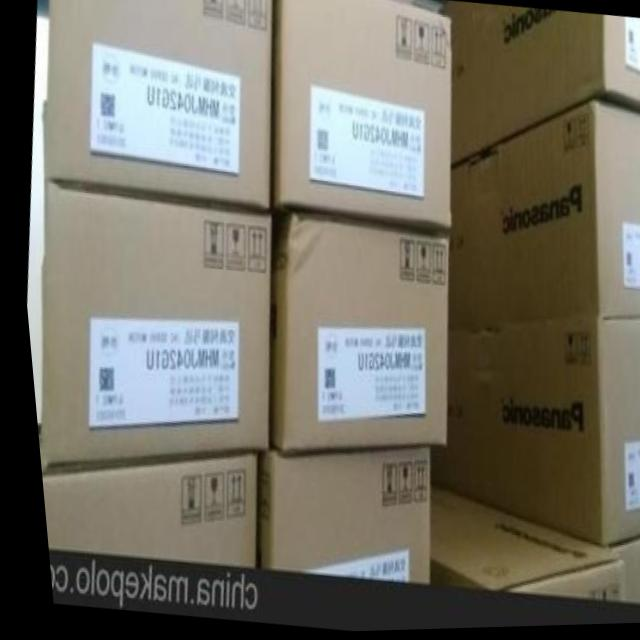box: (32, 185, 267, 470), (421, 322, 640, 550), (43, 0, 272, 213), (442, 103, 640, 325), (260, 217, 444, 453), (266, 0, 449, 237), (435, 4, 640, 169), (33, 453, 249, 571), (245, 445, 421, 586), (418, 483, 616, 608), (593, 534, 640, 607)
